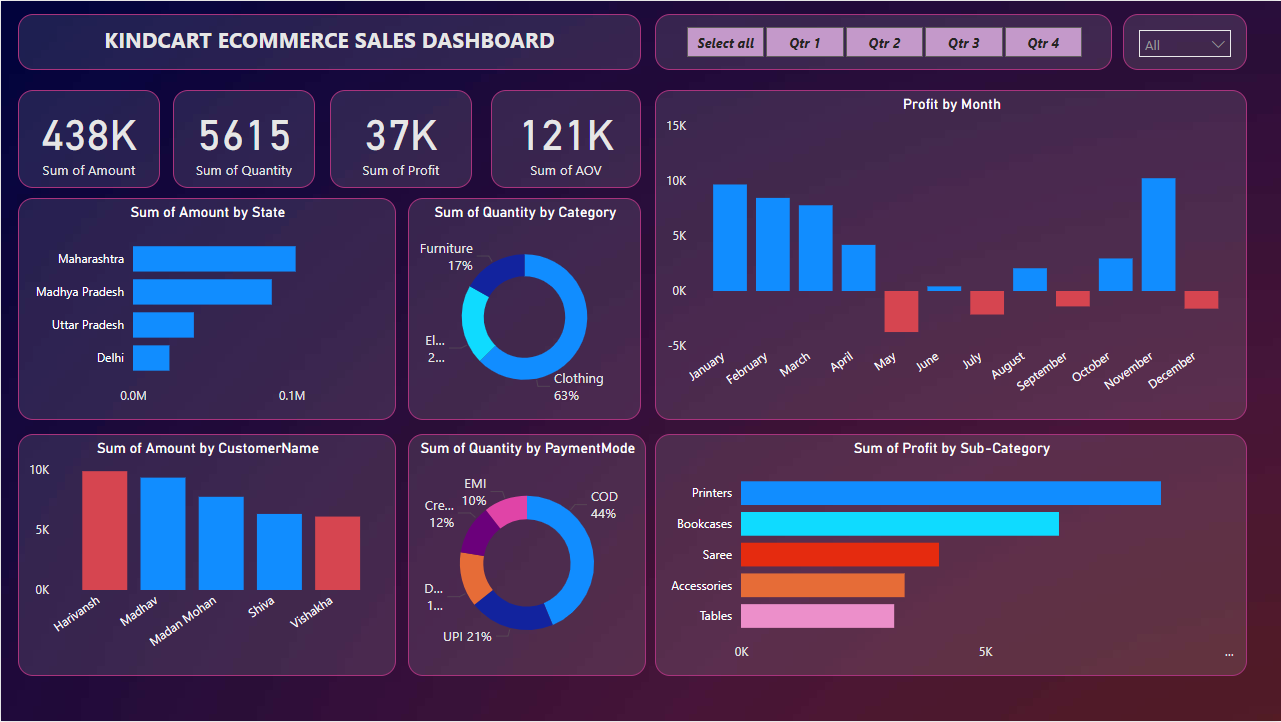

The dashboard page shown, as its layout file describes it:
{"tool":"powerbi","page":{"name":"Page 1","canvas":[1280,720],"ordinal":0},"visuals":[{"type":"textbox","box":[16.8,13.3,623.3,55.9],"z":0},{"type":"columnChart","title":"Profit by Month","fields":{"Y":["Details.Profit"],"Category":["Orders.Order Date.Variation.Date Hierarchy.Month"]},"box":[654.4,88.7,591.4,329.9],"z":1000},{"type":"barChart","fields":{"Category":["Details.Sub-Category"],"Y":["Details.Profit"]},"box":[654.4,432.7,591.4,242.1],"z":2000},{"type":"donutChart","fields":{"Category":["Details.Category"],"Y":["Details.Quantity"]},"box":[407,196.8,233.2,221.7],"z":3000},{"type":"donutChart","fields":{"Y":["Details.Quantity"],"Category":["Details.PaymentMode"]},"box":[407,432.7,237.6,242.1],"z":4000},{"type":"card","fields":{"Values":["Details.Amount"]},"box":[16.8,88.7,141.9,98.4],"z":5000},{"type":"card","fields":{"Values":["Details.Quantity"]},"box":[172,88.7,141.9,98.4],"z":6000},{"type":"card","fields":{"Values":["Details.Profit"]},"box":[329,88.7,141.9,98.4],"z":7000},{"type":"card","fields":{"Values":["Details.AOV"]},"box":[490.3,88.7,149.9,98.4],"z":8000},{"type":"barChart","fields":{"Category":["Orders.State"],"Y":["Details.Amount"]},"box":[16.8,196.8,378.6,221.7],"z":9000},{"type":"columnChart","fields":{"Category":["Orders.CustomerName"],"Y":["Details.Amount"]},"box":[16.8,432.7,378.6,242.1],"z":10000},{"type":"slicer","fields":{"Values":["Orders.Order Date.Variation.Date Hierarchy.Quarter"]},"box":[654.4,13.3,456.7,55.9],"z":11000},{"type":"slicer","fields":{"Values":["Orders.State"]},"box":[1121.7,13.3,124.1,55.9],"z":12000}]}

Visuals, with their boxes in screenshot pixels (x1, y1, x2, y2), scaled from the page's 1280x720 canvas onto the 1281x722 screenshot:
textbox: l=17, t=13, r=641, b=69
"Profit by Month" columnChart: l=655, t=89, r=1247, b=420
barChart - Details.Sub-Category x Details.Profit: l=655, t=434, r=1247, b=677
donutChart - Details.Category x Details.Quantity: l=407, t=197, r=641, b=420
donutChart - Details.Quantity x Details.PaymentMode: l=407, t=434, r=645, b=677
card - Details.Amount: l=17, t=89, r=159, b=188
card - Details.Quantity: l=172, t=89, r=314, b=188
card - Details.Profit: l=329, t=89, r=471, b=188
card - Details.AOV: l=491, t=89, r=641, b=188
barChart - Orders.State x Details.Amount: l=17, t=197, r=396, b=420
columnChart - Orders.CustomerName x Details.Amount: l=17, t=434, r=396, b=677
slicer - Orders.Order Date.Variation.Date Hierarchy.Quarter: l=655, t=13, r=1112, b=69
slicer - Orders.State: l=1123, t=13, r=1247, b=69
